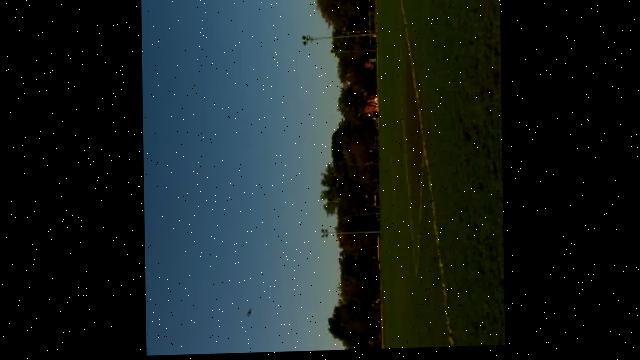drone: (239, 298, 253, 323)
